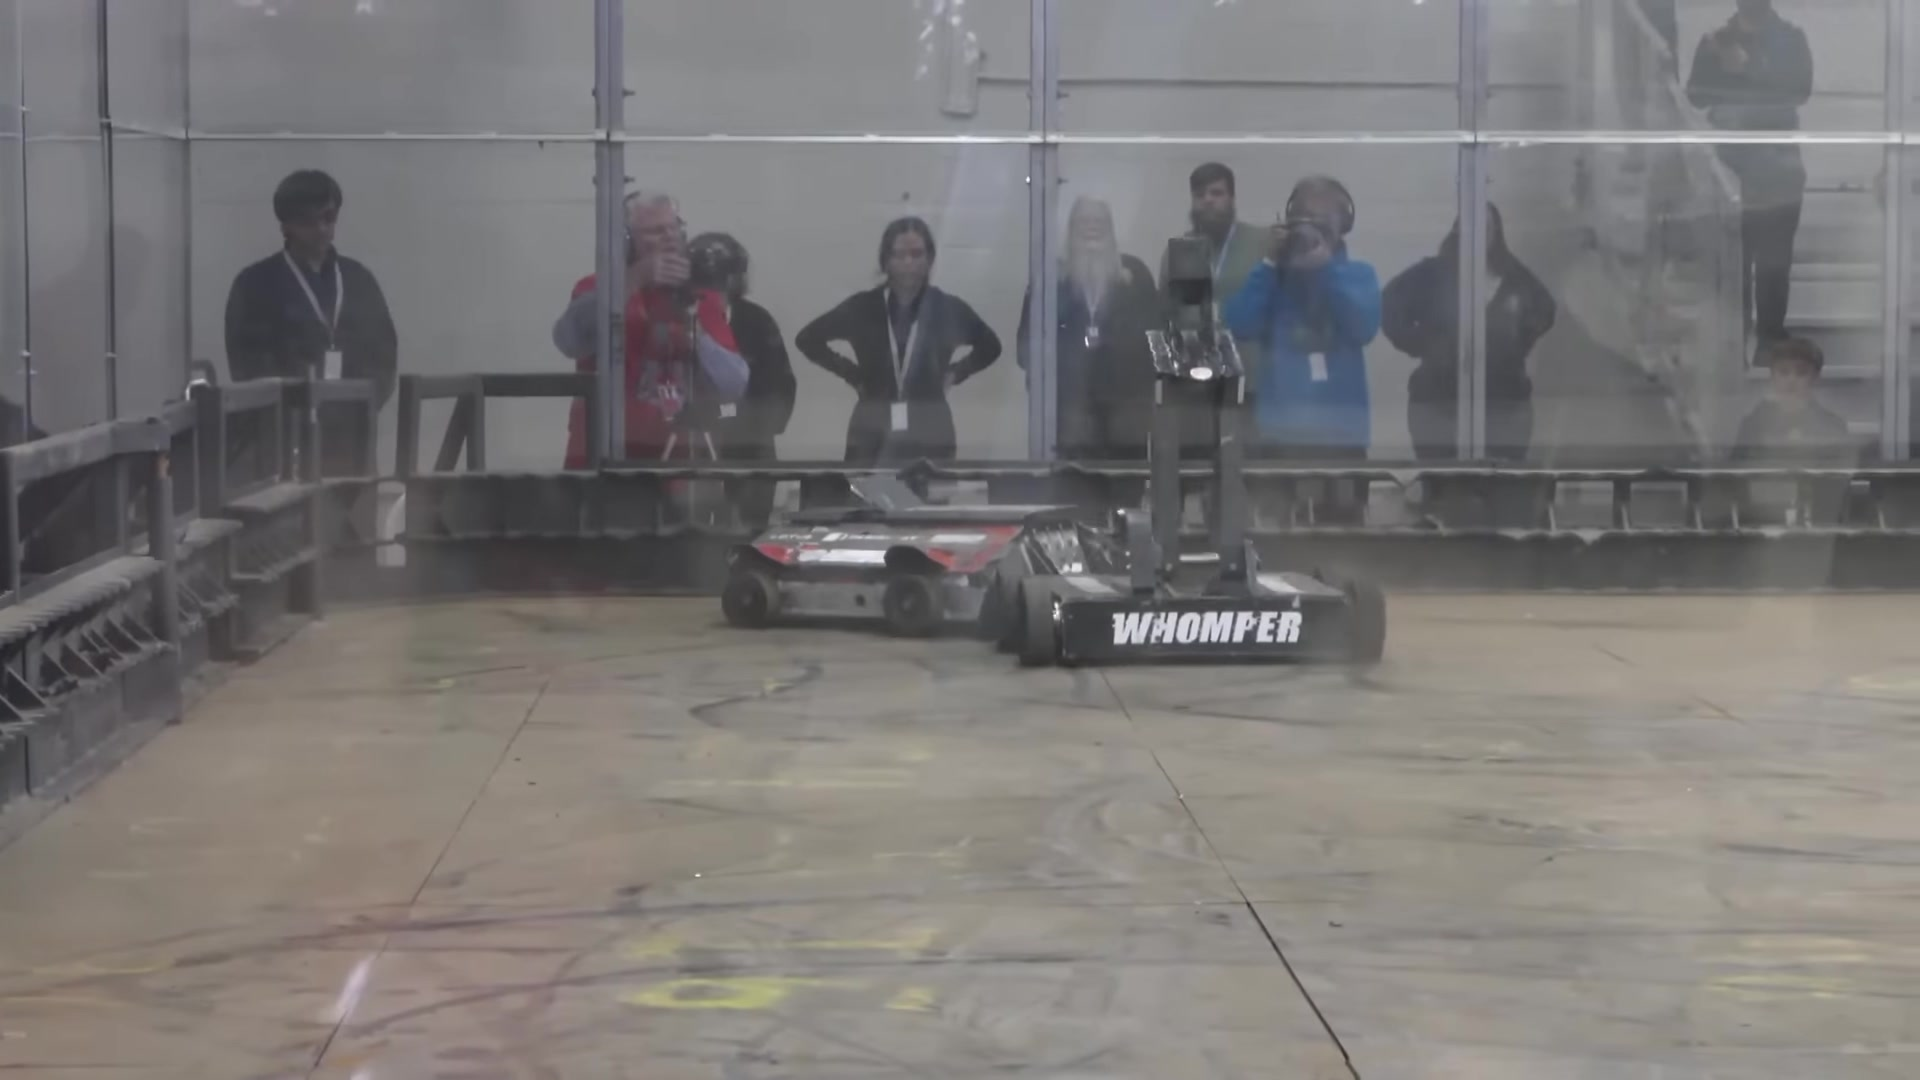combatbot: (996, 232, 1383, 676), (720, 468, 1076, 645)
